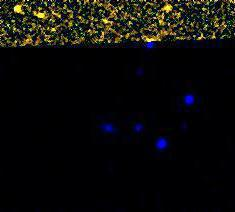star: (152, 0, 182, 22)
